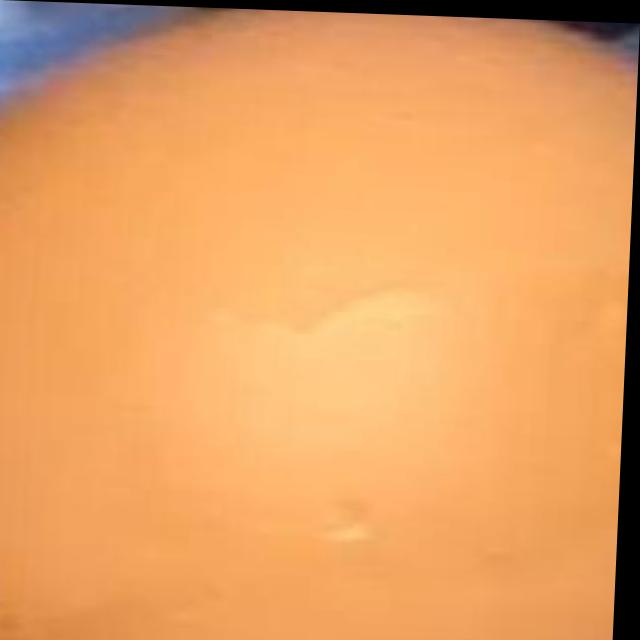fresh: (0, 14, 640, 640)
